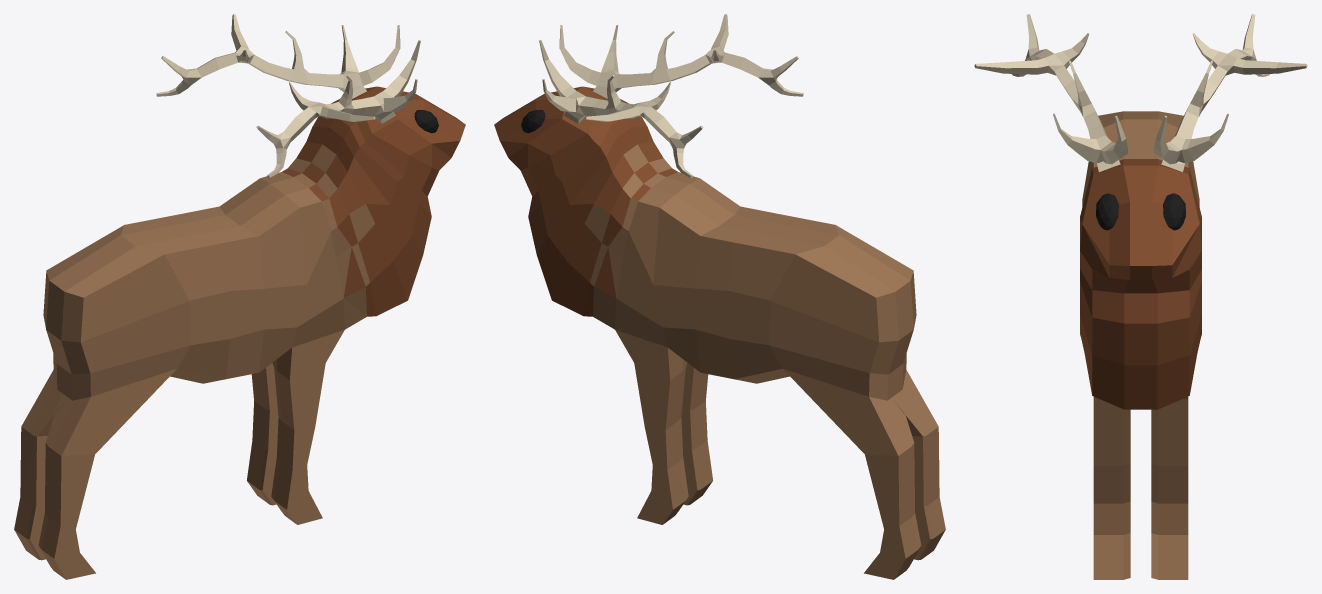
The model's file is elk17.fbx.
The picture shows the model from 3 angles, left to right: view 1: azimuth 30°, elevation 25°; view 2: azimuth 150°, elevation 25°; view 3: azimuth 270°, elevation 25°; orthographic projection. The views are drawn at different scales.
Visible parts, largest first — view 1: Elk; view 2: Elk; view 3: Elk.
Boxes of the visible parts, bbox=[...] form: Elk: bbox=[14, 14, 465, 579]; Elk: bbox=[494, 14, 945, 579]; Elk: bbox=[974, 14, 1307, 579].
Bounding box in the file's own units: 387 × 221 × 386.
